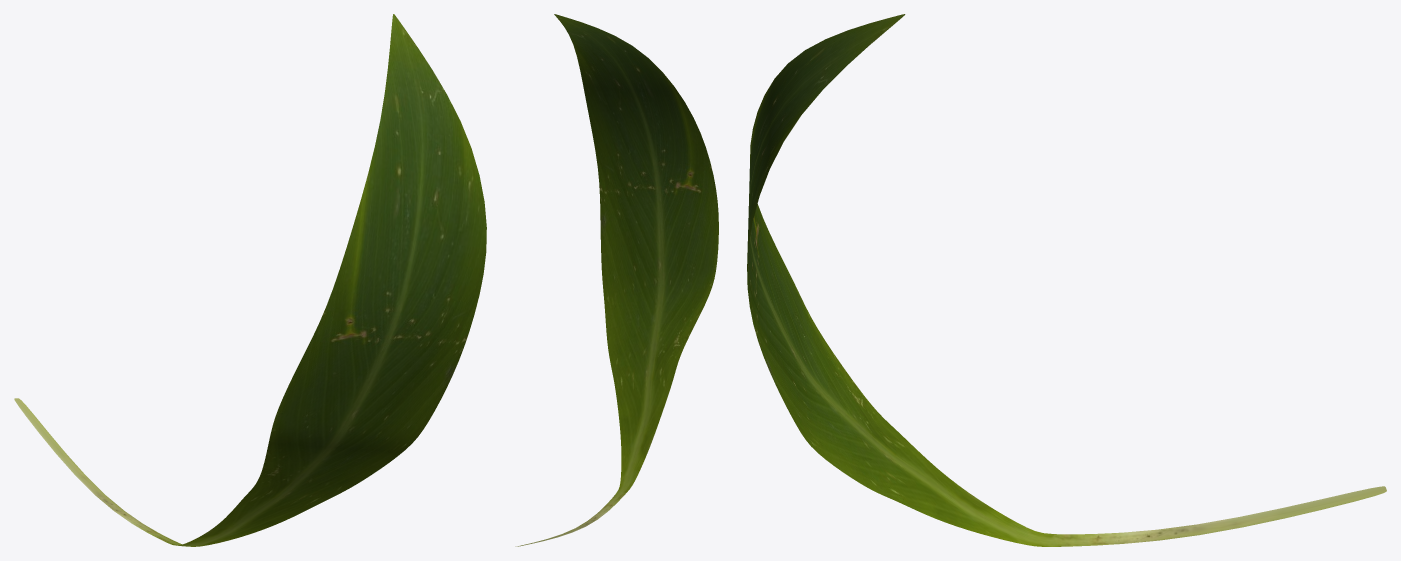
3 renders of one model, left to right at view 1: azimuth 30°, elevation 25°; view 2: azimuth 150°, elevation 25°; view 3: azimuth 270°, elevation 25°, orthographic. The views are drawn at different scales.
Visible parts, largest first — view 1: Plane.009; view 2: Plane.009; view 3: Plane.009.
Boxes of the visible parts, x1,y1,x2,y2 form: Plane.009: [14, 14, 486, 546]; Plane.009: [515, 14, 718, 546]; Plane.009: [747, 14, 1386, 546].
Size of the model in its own units: 0.4324 by 1.14 by 1.07.
1 material, 1 textured.
